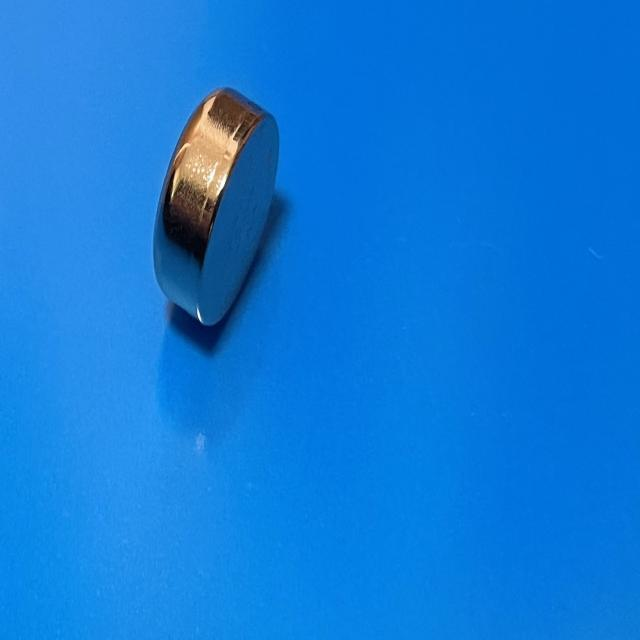COIN: (152, 85, 281, 328)
